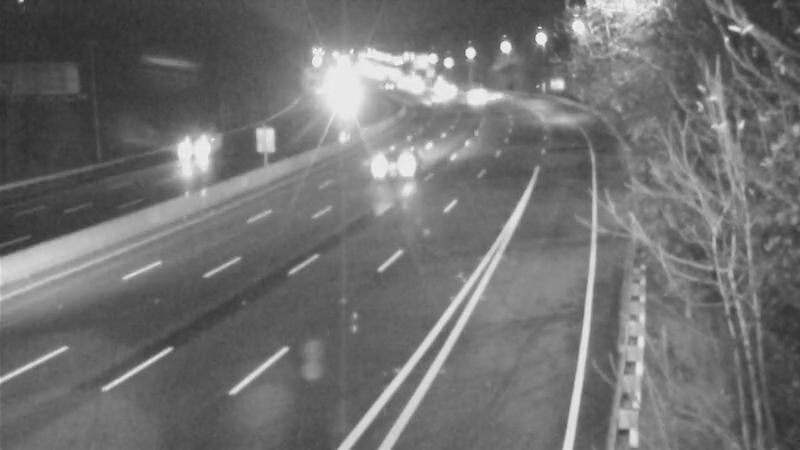vehicle: (357, 120, 437, 200), (156, 111, 236, 191), (449, 71, 499, 121), (471, 67, 521, 117)
